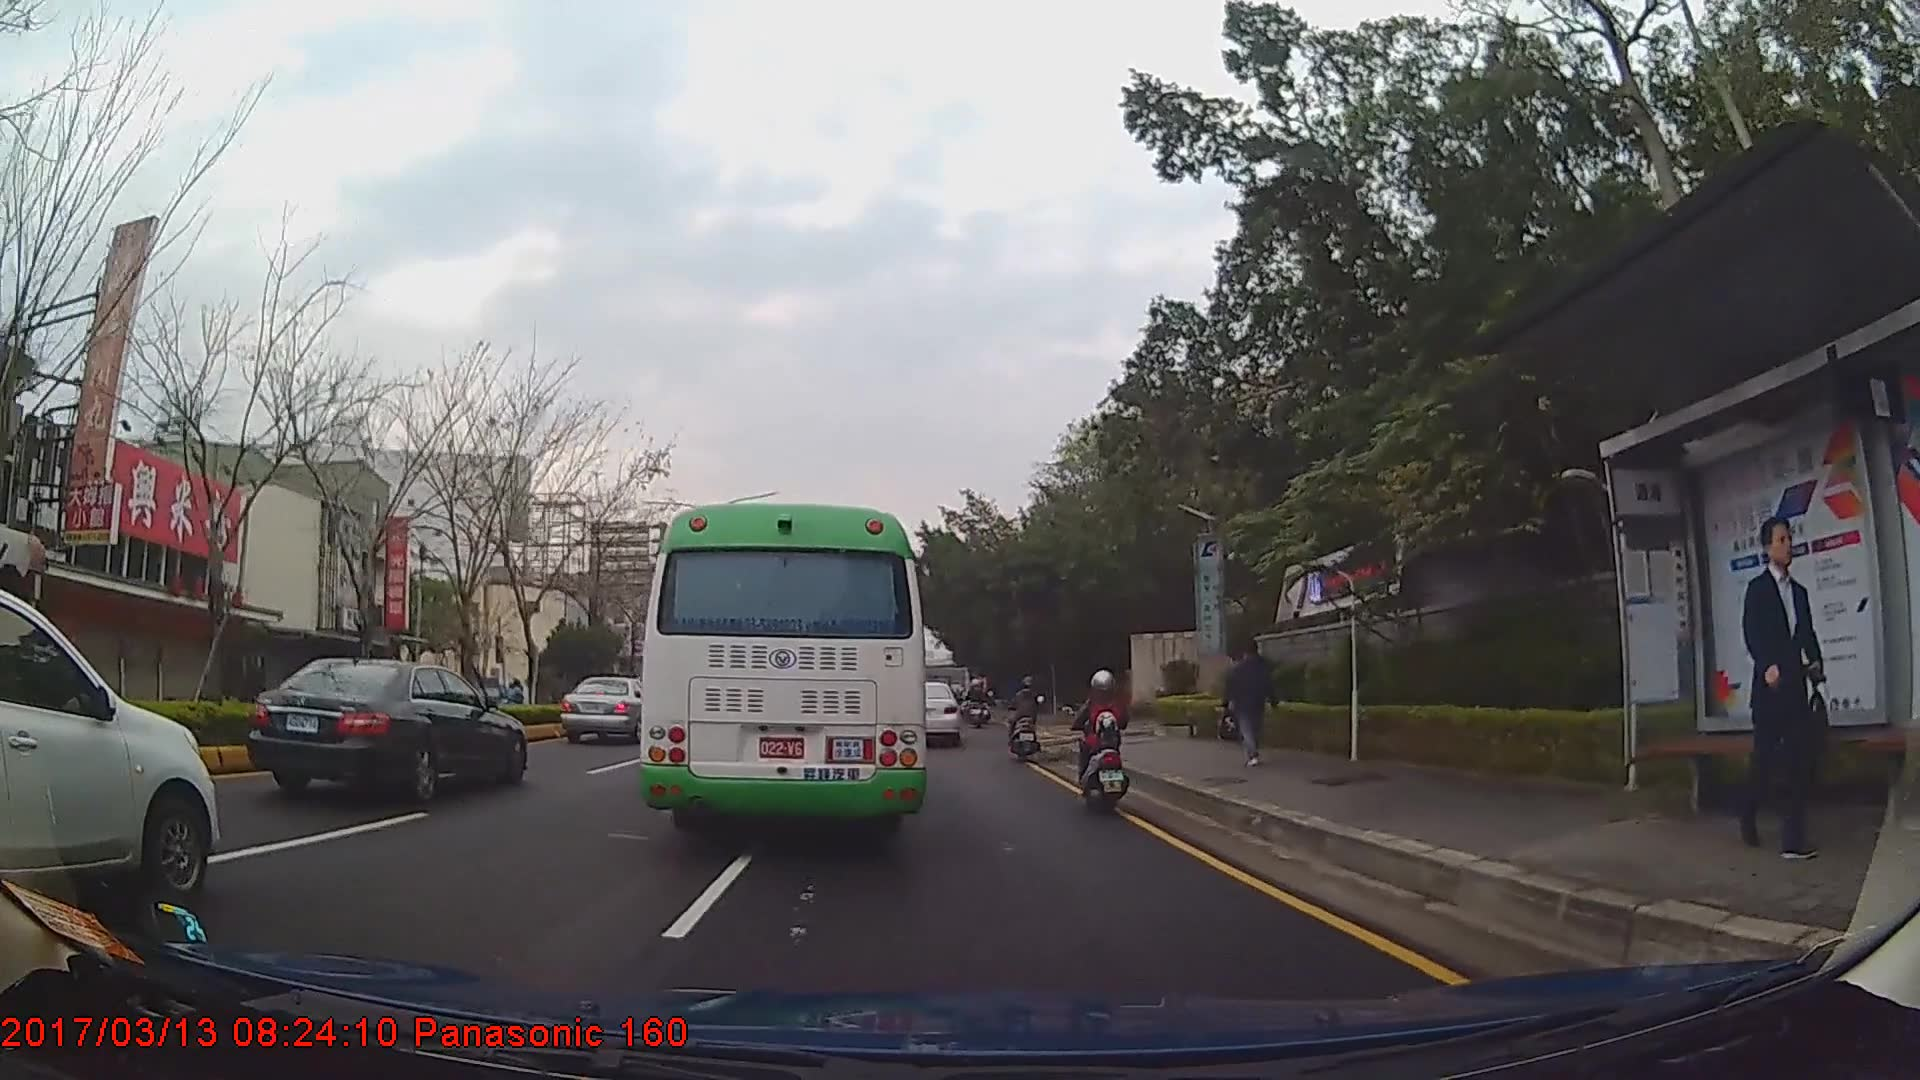pedestrian: (1736, 508, 1840, 862), (1221, 636, 1283, 771)
rider: (1075, 668, 1131, 810), (1008, 670, 1046, 759), (967, 678, 987, 716)
vehicle: (638, 504, 926, 847), (0, 587, 220, 909), (246, 654, 528, 805), (559, 672, 653, 744), (895, 678, 961, 747)
